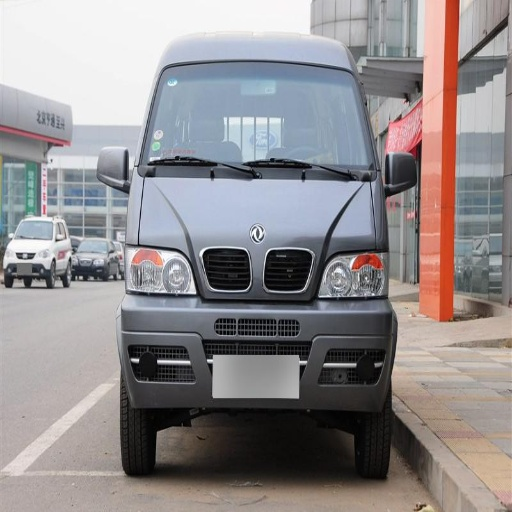front_bumper: (121, 240, 392, 412)
front_right_light: (129, 249, 193, 294)
hood: (142, 178, 378, 260)
left_mirror: (385, 151, 419, 194)
